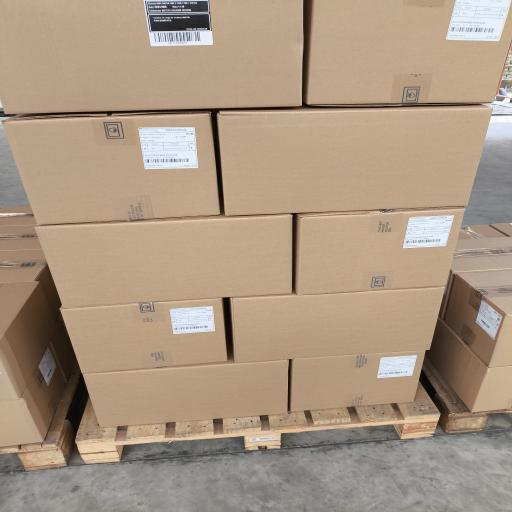pallet: (76, 385, 439, 463), (0, 362, 81, 470), (423, 358, 511, 433)
